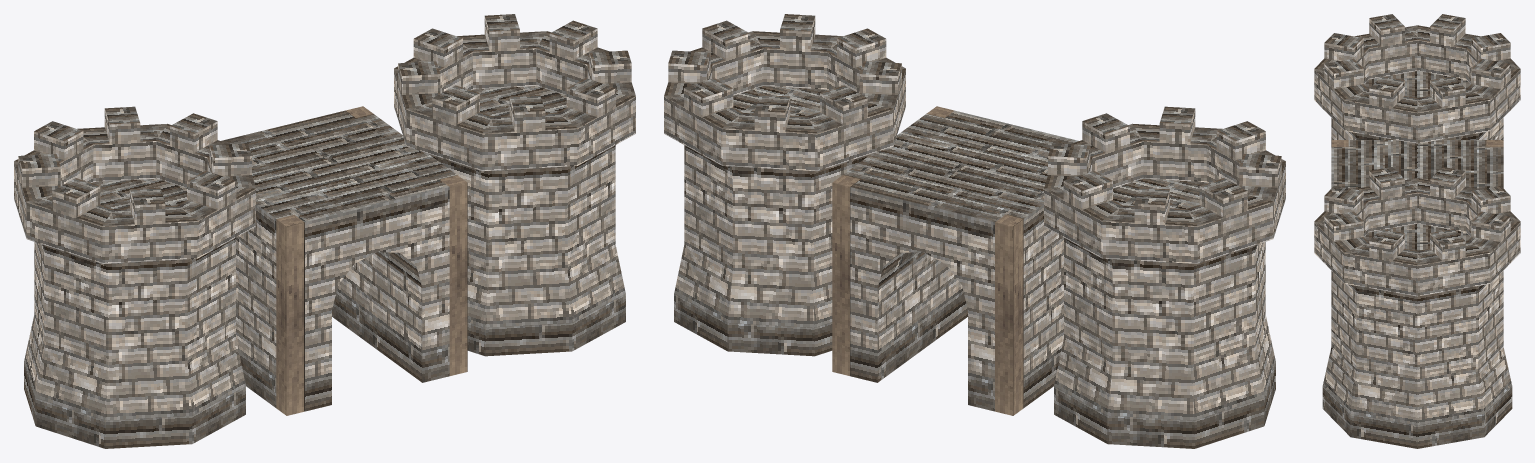
Rendered from gate_house.glb.
3 views of the same model, side by side, from view 1: azimuth 30°, elevation 25°; view 2: azimuth 150°, elevation 25°; view 3: azimuth 270°, elevation 25° (orthographic). The views are drawn at different scales.
Visible parts, largest first — view 1: wall-fortified-gate, tower_left, tower_right, tower_top_right, tower_top_left; view 2: wall-fortified-gate, tower_left, tower_right, tower_top_right, tower_top_left; view 3: tower_right, tower_top_right, tower_top_left, wall-fortified-gate, tower_left.
Part boxes in pixels (box(x1,y1,x2,y2)): wall-fortified-gate: box(221, 106, 467, 415); tower_left: box(24, 178, 245, 448); tower_right: box(429, 86, 625, 356); tower_top_right: box(394, 14, 635, 171); tower_top_left: box(14, 106, 255, 263); wall-fortified-gate: box(832, 106, 1078, 415); tower_left: box(1054, 178, 1275, 448); tower_right: box(674, 86, 870, 356); tower_top_right: box(664, 14, 905, 171); tower_top_left: box(1044, 106, 1285, 263); tower_right: box(1322, 224, 1512, 448); tower_top_right: box(1314, 167, 1520, 296); tower_top_left: box(1314, 14, 1520, 143); wall-fortified-gate: box(1331, 140, 1503, 188); tower_left: box(1331, 71, 1503, 139).
Size of what is drawn, in the model's own units: 6.6 by 2.6 by 2.4.
11 materials, 11 textured.
